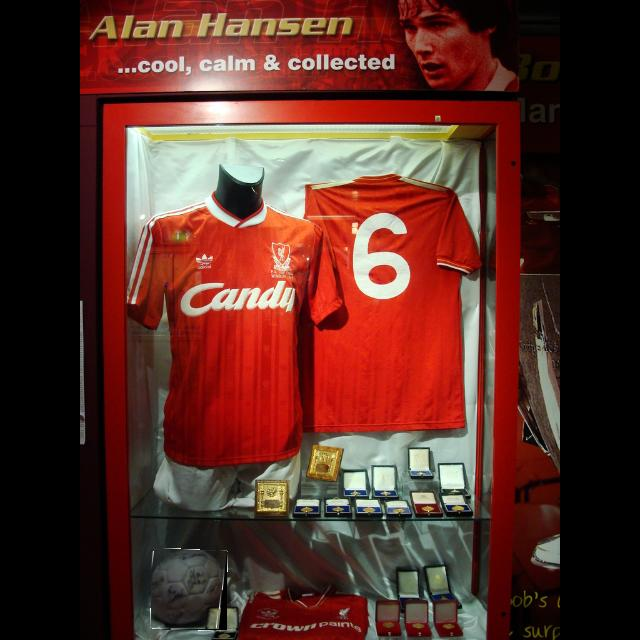Football: (151, 550, 227, 630)
